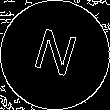N_S: (29, 25, 81, 85)
